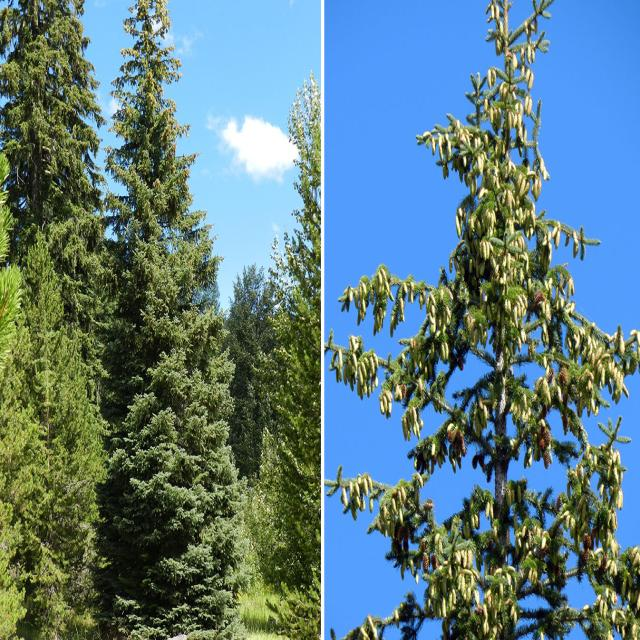Pseudotsuga menziesii: (335, 0, 640, 640), (103, 2, 236, 640), (0, 223, 101, 624), (0, 6, 100, 329)
